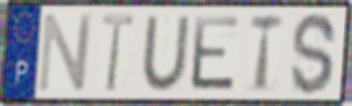E: (190, 14, 242, 94)
N: (36, 11, 95, 95)
S: (289, 10, 339, 98)
T: (247, 13, 286, 95), (100, 11, 136, 95)
U: (139, 13, 192, 93)
